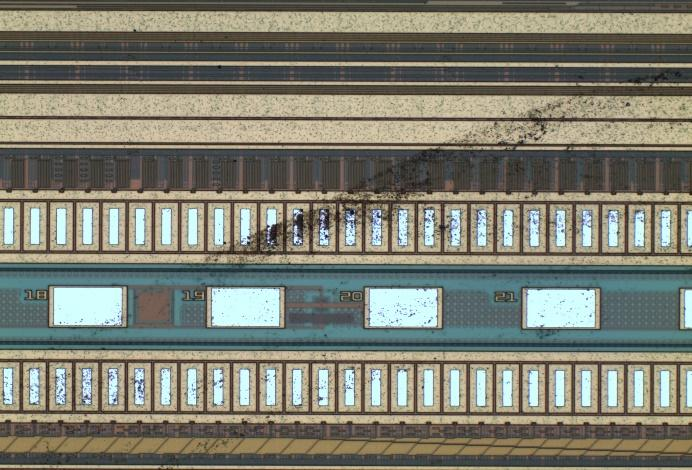PO CONTAMINATION: (3, 64, 692, 414)
